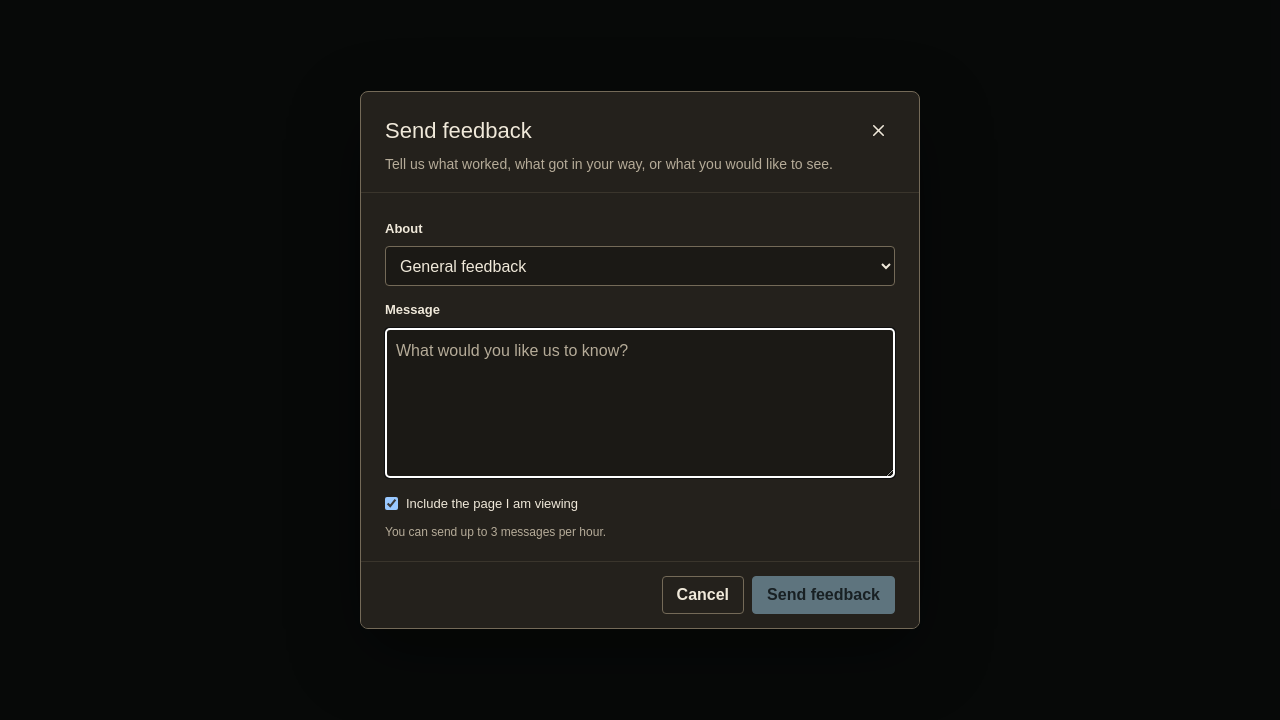
Test: FeedbackDialog › accepts an empty successful response
Type "A note." into the text box labelled "Message" at coordinates (640, 403), box [385,328,895,478]
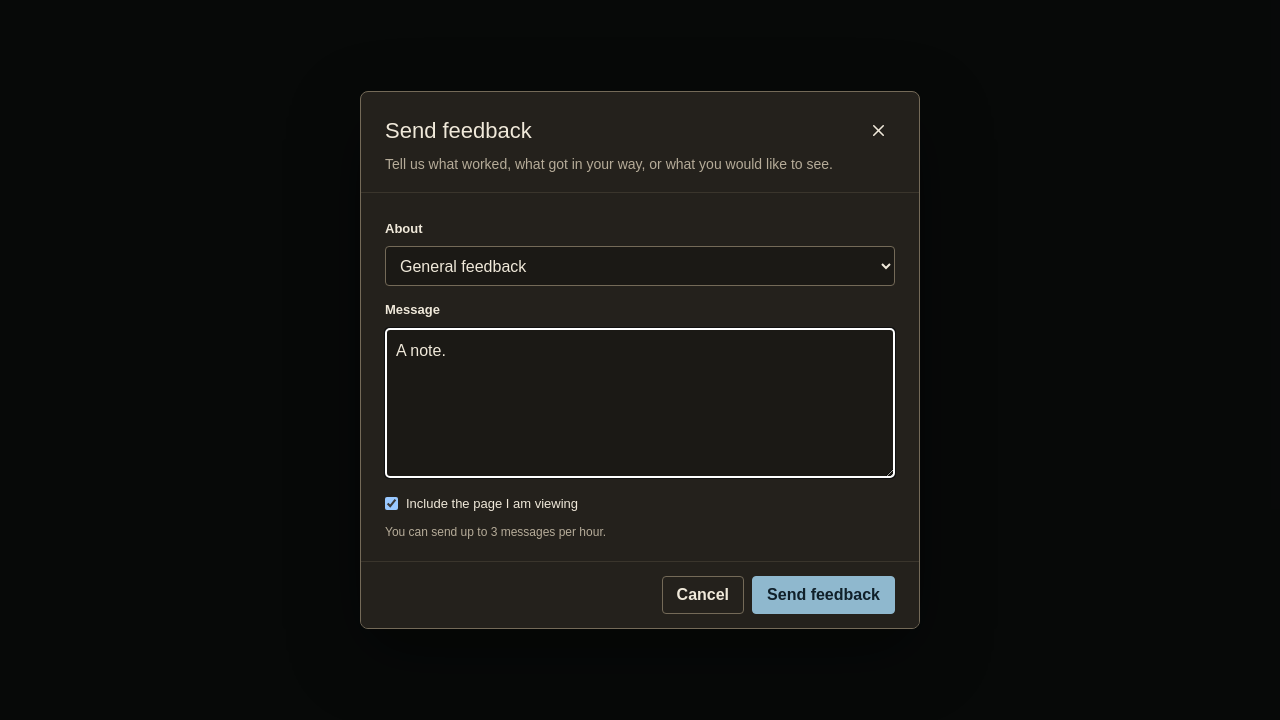
Click the button "Send feedback" at coordinates (824, 595), box [752,576,895,614]
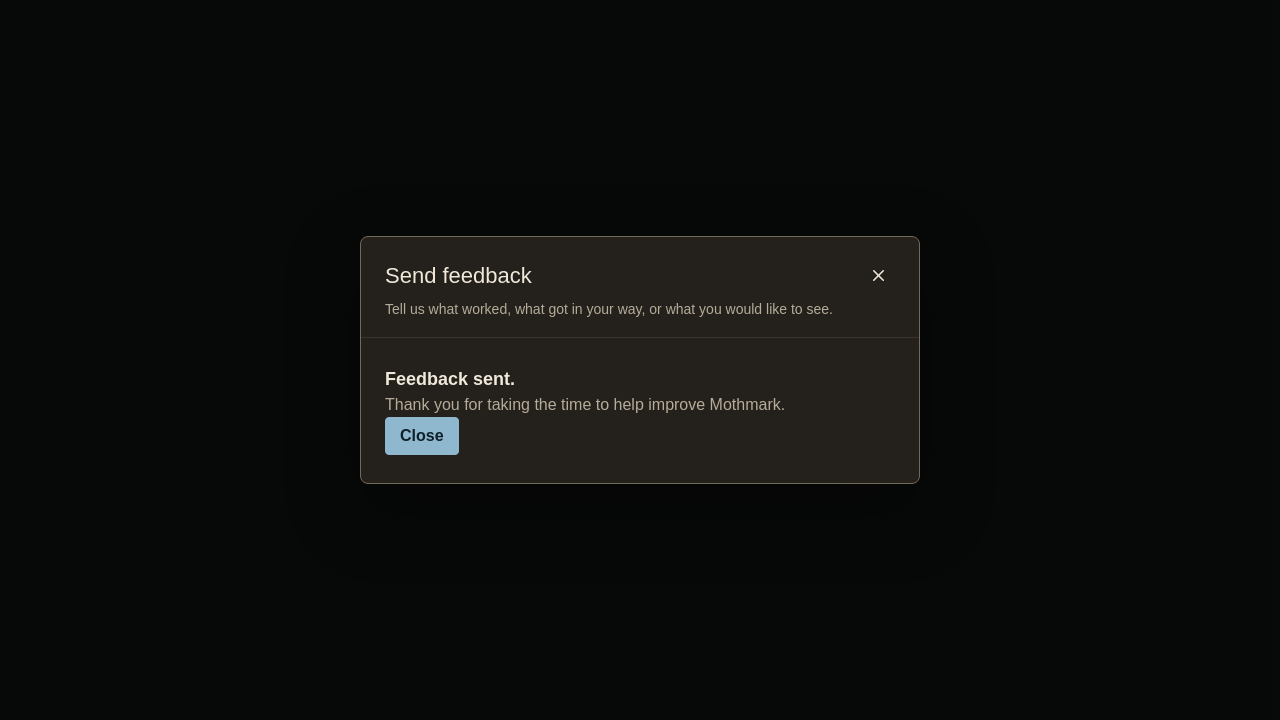
Expected: the text "Feedback sent." is shown, [385,369,515,389]
